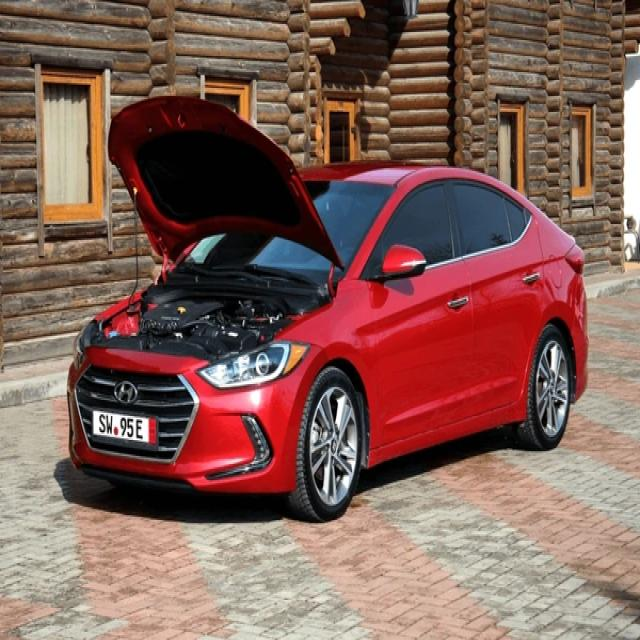hyundai: (114, 380, 142, 406)
